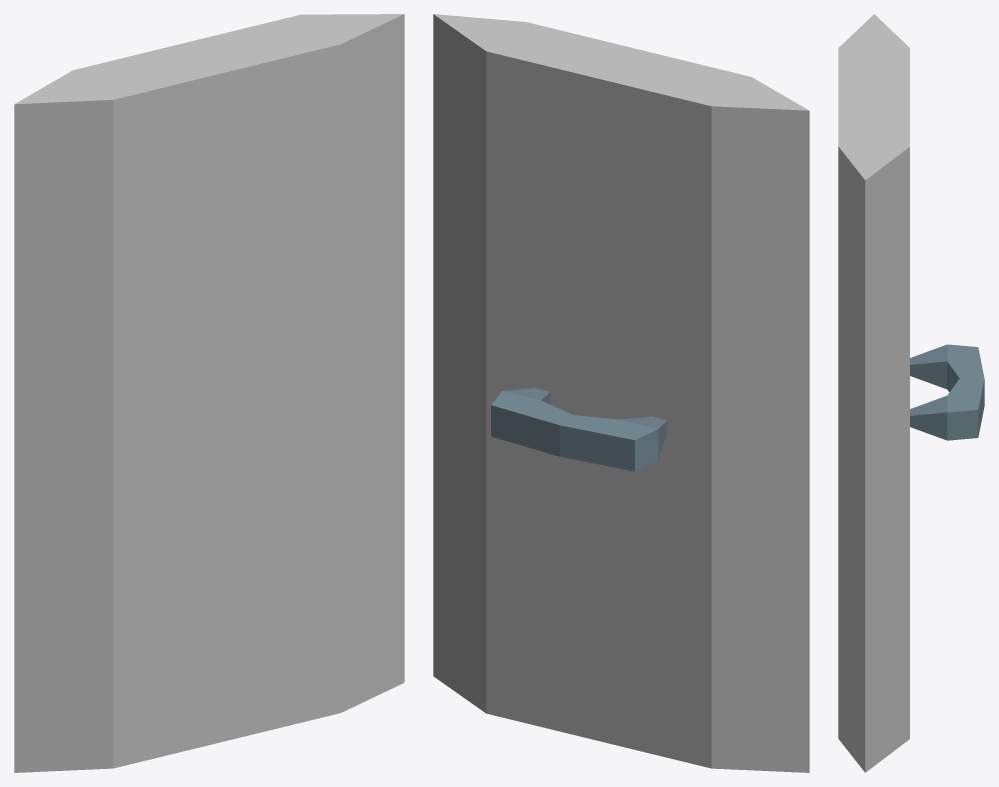
3 renders of one model, left to right at view 1: azimuth 30°, elevation 25°; view 2: azimuth 150°, elevation 25°; view 3: azimuth 270°, elevation 25°, orthographic. The views are drawn at different scales.
Parts seen in each view (by area): view 1: mesh_1616988815; view 2: mesh_1616988815, mesh_2020568996; view 3: mesh_1616988815, mesh_2020568996.
Boxes of the visible parts, box(x1,y1,x2,y2) form: mesh_1616988815: box(14, 14, 404, 772); mesh_1616988815: box(433, 14, 809, 772); mesh_2020568996: box(491, 388, 667, 471); mesh_1616988815: box(838, 14, 909, 772); mesh_2020568996: box(910, 344, 984, 440).
Bounding box in the file's own units: 44 × 73 × 16.31.
